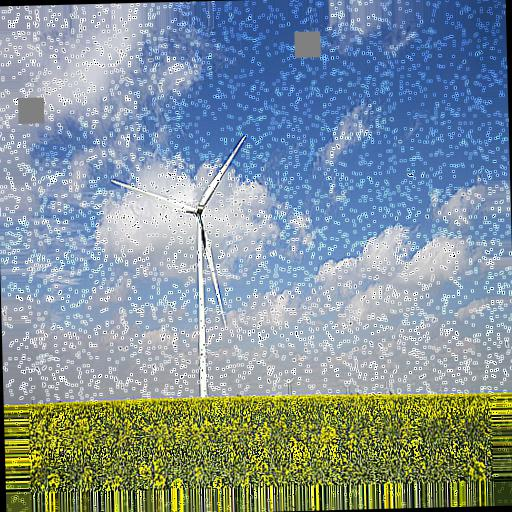wind turbine: (106, 135, 247, 405)
